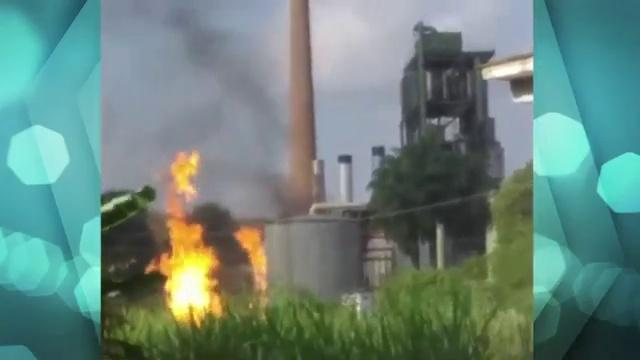fire: (171, 258, 214, 317)
